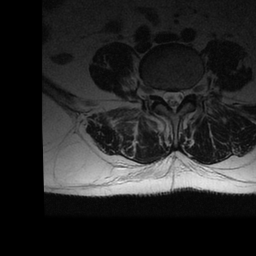CCS_normal: (169, 84, 177, 117)
LFS_stenosis: (183, 79, 191, 102)
LLS_normal: (177, 84, 184, 109)
RFS_normal: (153, 79, 161, 105)
RLS_normal: (161, 82, 169, 111)
